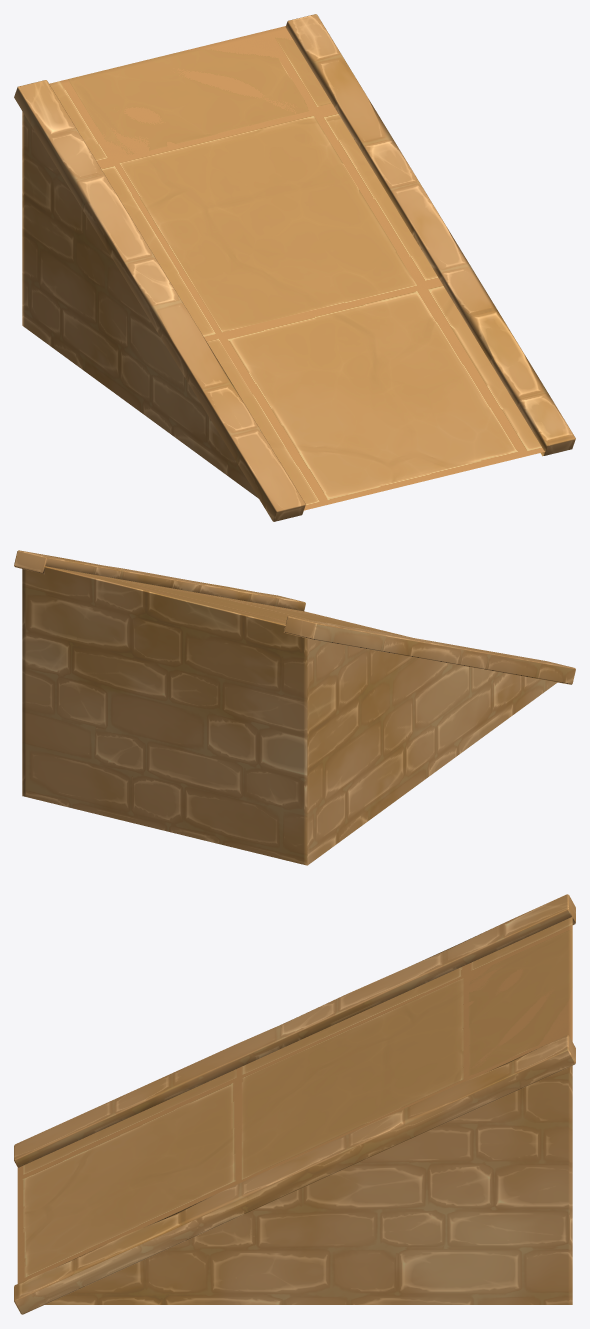
The model's file is SM_Env_Slope_A.fbx.
3 renders of one model, top to bottom at view 1: azimuth 30°, elevation 25°; view 2: azimuth 150°, elevation 25°; view 3: azimuth 270°, elevation 25°, orthographic. The views are drawn at different scales.
Parts seen in each view (by area): view 1: Slope_A; view 2: Slope_A; view 3: Slope_A.
Part boxes in pixels (x1=…): Slope_A: x1=14, y1=14, x2=575, y2=521; Slope_A: x1=14, y1=550, x2=575, y2=865; Slope_A: x1=14, y1=894, x2=575, y2=1314.
Bounding box in the file's own units: 200 × 158 × 304.
2 materials, 2 textured.
